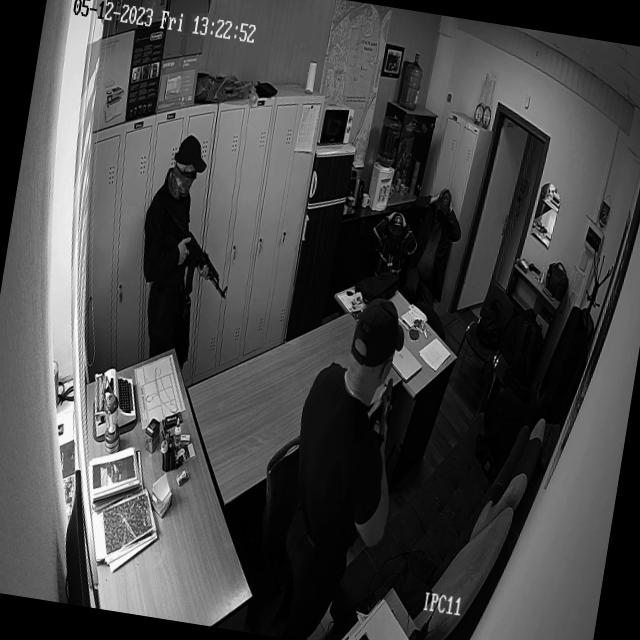gun: (158, 189, 248, 308), (367, 366, 402, 451)
person: (417, 180, 458, 248), (378, 214, 420, 270)
person with a gun: (270, 287, 423, 640), (121, 120, 255, 372)
